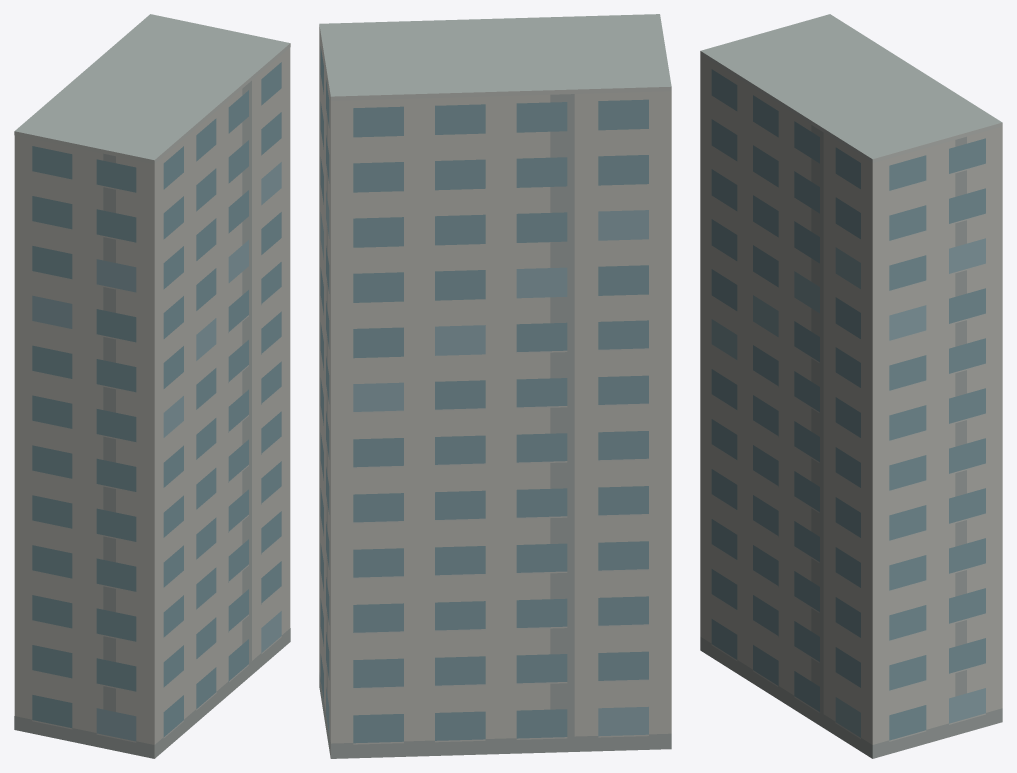
Rendered from residential-fb14699d-d43e-4bf3-b585-2dc71a983487.glb.
The picture shows the model from 3 angles, left to right: view 1: azimuth 30°, elevation 25°; view 2: azimuth 150°, elevation 25°; view 3: azimuth 270°, elevation 25°; orthographic projection. The views are drawn at different scales.
Parts seen in each view (by area): view 1: residential-fb14699d-d43e-4bf3-b585-2dc71a983487.tmp; view 2: residential-fb14699d-d43e-4bf3-b585-2dc71a983487.tmp; view 3: residential-fb14699d-d43e-4bf3-b585-2dc71a983487.tmp.
Boxes of the visible parts, box(x1,y1,x2,y2) form: residential-fb14699d-d43e-4bf3-b585-2dc71a983487.tmp: box(14, 14, 290, 758); residential-fb14699d-d43e-4bf3-b585-2dc71a983487.tmp: box(319, 14, 671, 758); residential-fb14699d-d43e-4bf3-b585-2dc71a983487.tmp: box(700, 14, 1002, 758).
Size of the model in its own units: 18.71 by 36 by 16.45.
